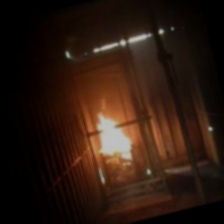fire: (88, 101, 139, 170)
